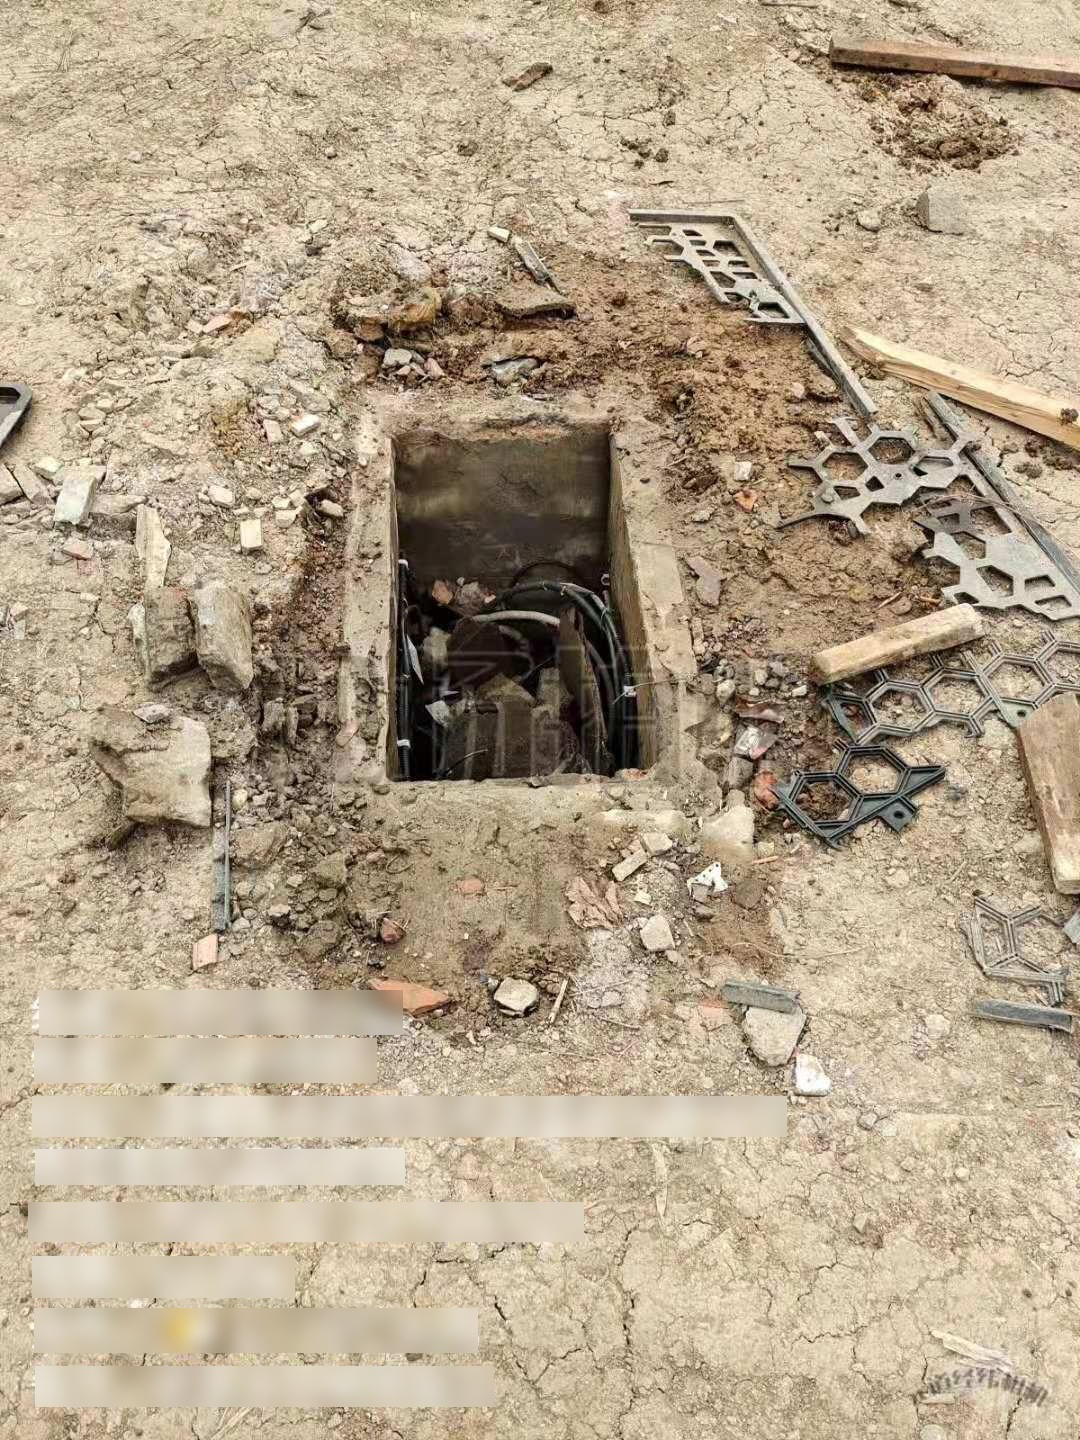lose: (374, 420, 670, 794)
